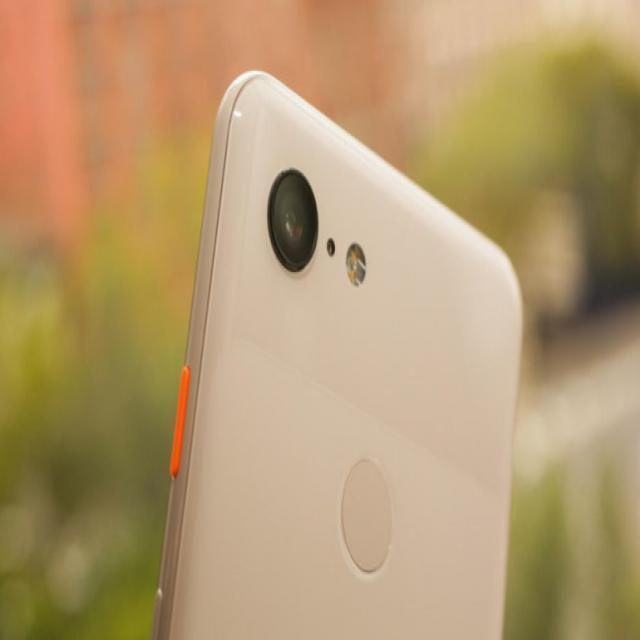phone: (162, 72, 514, 640)
